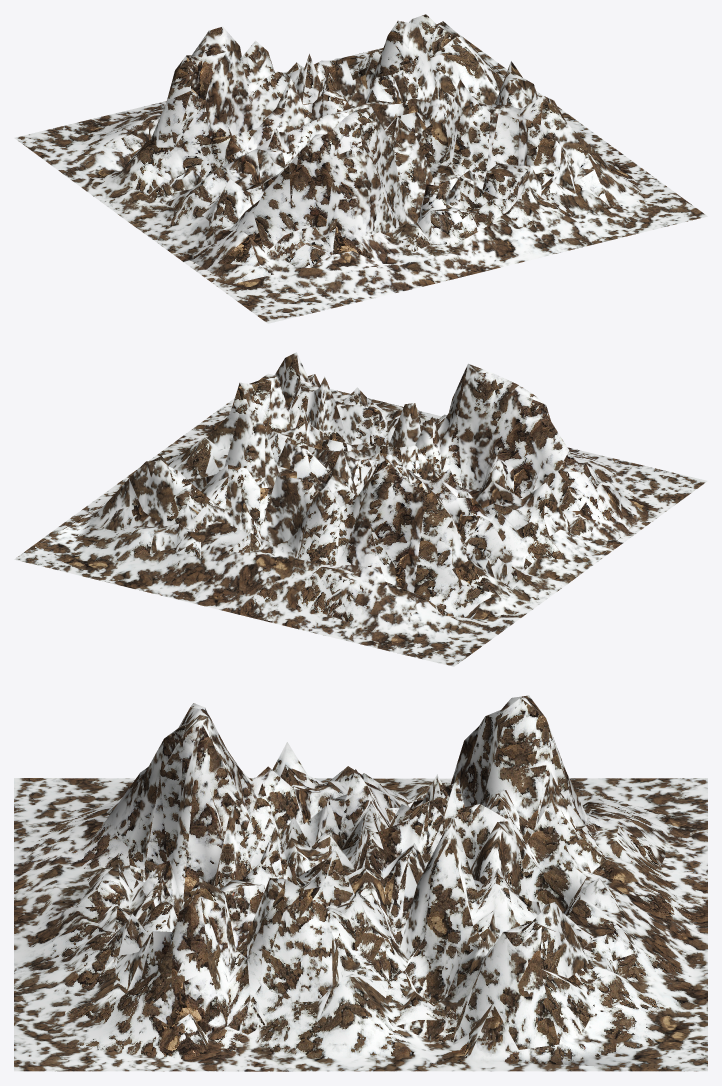
Rendered from Mountains.gltf.
The picture shows the model from 3 angles, top to bottom: view 1: azimuth 30°, elevation 25°; view 2: azimuth 150°, elevation 25°; view 3: azimuth 270°, elevation 25°; orthographic projection. The views are drawn at different scales.
Visible parts, largest first — view 1: Landscape; view 2: Landscape; view 3: Landscape.
Boxes of the visible parts, <box> form: Landscape: <box>14,14,707,323</box>; Landscape: <box>14,352,707,666</box>; Landscape: <box>14,695,707,1071</box>.
Bounding box in the file's own units: 2 × 0.6883 × 2.
2 materials, 2 textured.
